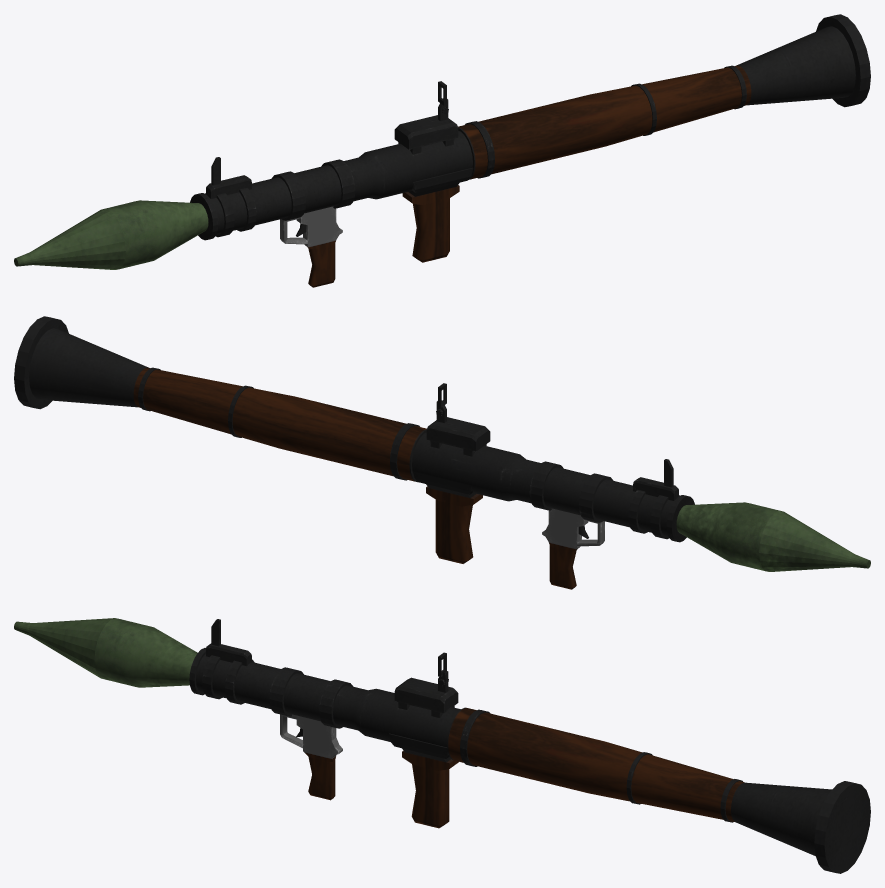
File: RocketlauncherPick.fbx
3 views of the same model, one above another, from view 1: azimuth 30°, elevation 25°; view 2: azimuth 150°, elevation 25°; view 3: azimuth 330°, elevation 25° (orthographic).
Visible parts, largest first — view 1: RocketPick; view 2: RocketPick; view 3: RocketPick.
Part boxes in pixels (<box>): RocketPick: <box>14,14,870,287</box>; RocketPick: <box>14,316,870,589</box>; RocketPick: <box>14,618,870,873</box>.
Size of the model in its own units: 10.96 by 2.16 by 1.06.
1 material, 1 textured.
